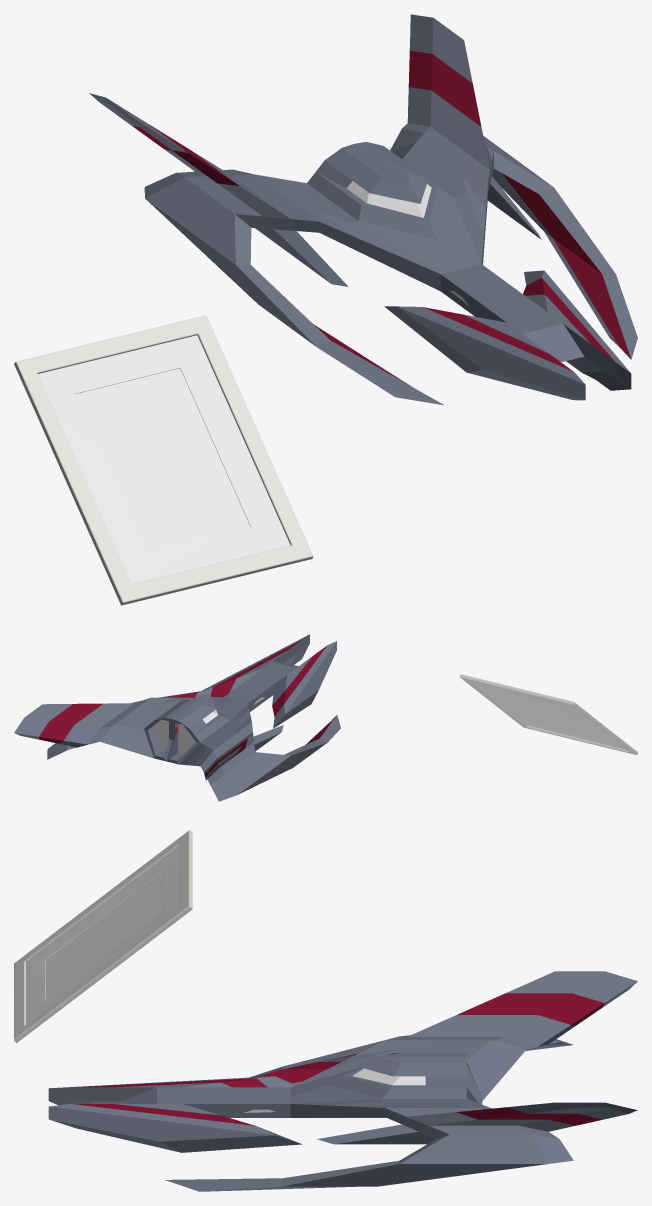
Rendered from pictureframe.fbx.
The picture shows the model from 3 angles, top to bottom: view 1: azimuth 30°, elevation 25°; view 2: azimuth 150°, elevation 25°; view 3: azimuth 270°, elevation 25°; orthographic projection. The views are drawn at different scales.
Visible parts, largest first — view 1: bg_1, Photo frame 'anyframe' with a landscape|Plane.001_L_photo_fr; view 2: bg_1, Photo frame 'anyframe' with a landscape|Plane.001_L_photo_fr; view 3: bg_1, Photo frame 'anyframe' with a landscape|Plane.001_L_photo_fr.
Boxes of the visible parts, <box> form: bg_1: <box>89,14,637,405</box>; Photo frame 'anyframe' with a landscape|Plane.001_L_photo_fr: <box>14,315,313,605</box>; bg_1: <box>14,634,340,801</box>; Photo frame 'anyframe' with a landscape|Plane.001_L_photo_fr: <box>460,674,637,754</box>; bg_1: <box>48,971,637,1191</box>; Photo frame 'anyframe' with a landscape|Plane.001_L_photo_fr: <box>14,830,192,1042</box>.
Size of the model in its own units: 652 by 155 by 640.
6 materials, 1 textured.
